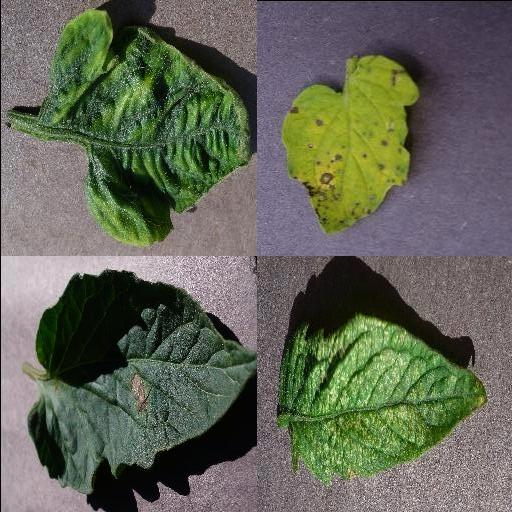Early Blight: (25, 271, 255, 495)
Septoria: (278, 53, 419, 235)
Spider Mites: (274, 311, 488, 481)
Yellow Leaf Curl Virus: (44, 8, 252, 244)
